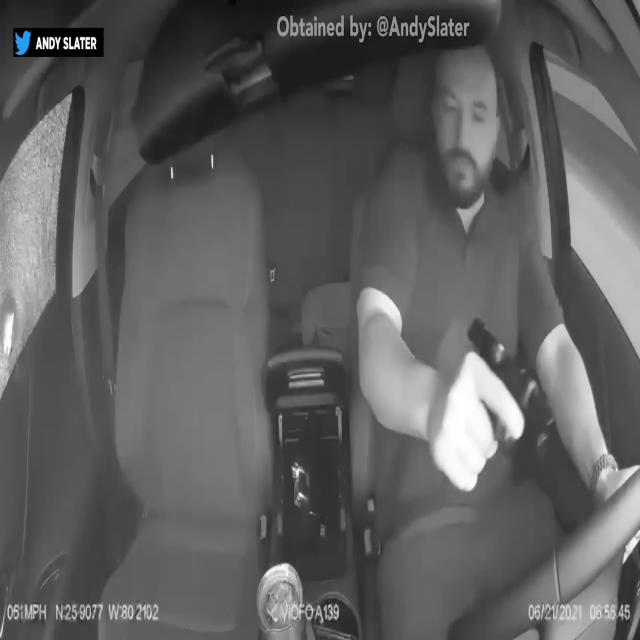senjata_api: (468, 314, 556, 446)
